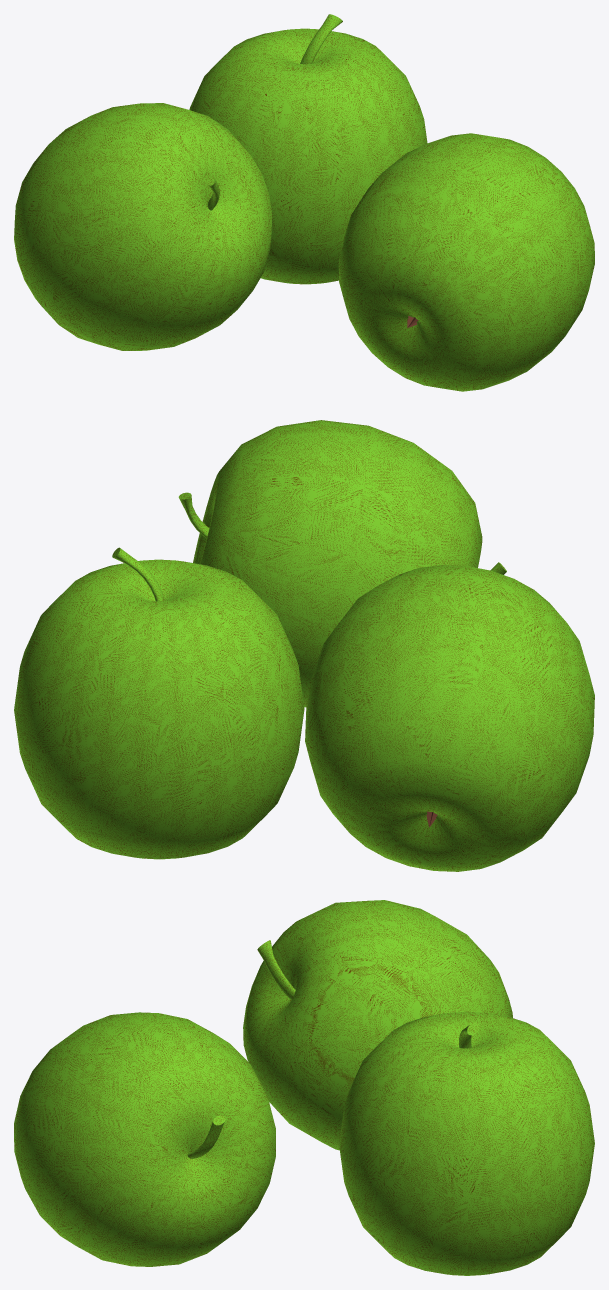
Rendered from apple.dae.
3 renders of one model, top to bottom at view 1: azimuth 30°, elevation 25°; view 2: azimuth 150°, elevation 25°; view 3: azimuth 270°, elevation 25°, orthographic. The views are drawn at different scales.
Parts seen in each view (by area): view 1: group_2, group_4, group_0 (×2); view 2: group_0 (×2), group_4, group_2; view 3: group_0, group_2 (×2), group_4 (×2).
Boxes of the visible parts, left/top/right/bottom form: group_2: left=338, top=133, right=594, bottom=391; group_4: left=14, top=103, right=272, bottom=350; group_0 (×2): left=189, top=14, right=427, bottom=284; group_0 (×2): left=14, top=547, right=304, bottom=859; group_4: left=305, top=565, right=594, bottom=871; group_2: left=193, top=420, right=482, bottom=707; group_0: left=339, top=1011, right=594, bottom=1275; group_2 (×2): left=14, top=1012, right=275, bottom=1266; group_4 (×2): left=243, top=900, right=512, bottom=1150.
Size of the model in its own units: 601 by 677 by 318.
